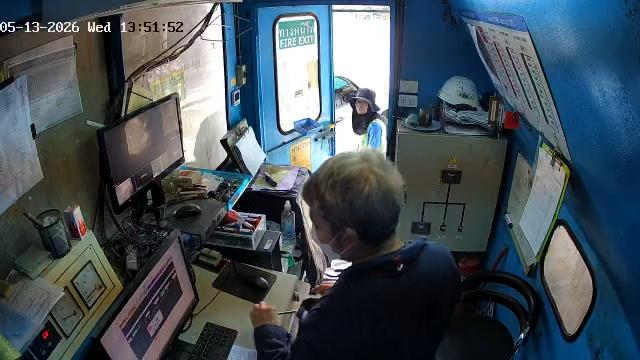Head: (303, 149, 402, 260)
People: (252, 149, 460, 359)
